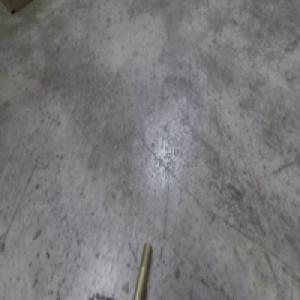Bolt: (132, 241, 152, 299)
